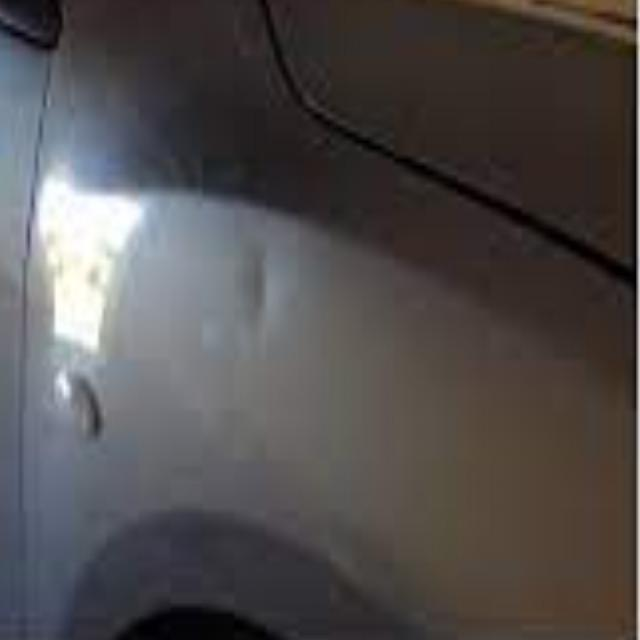dents: (224, 222, 302, 366)
